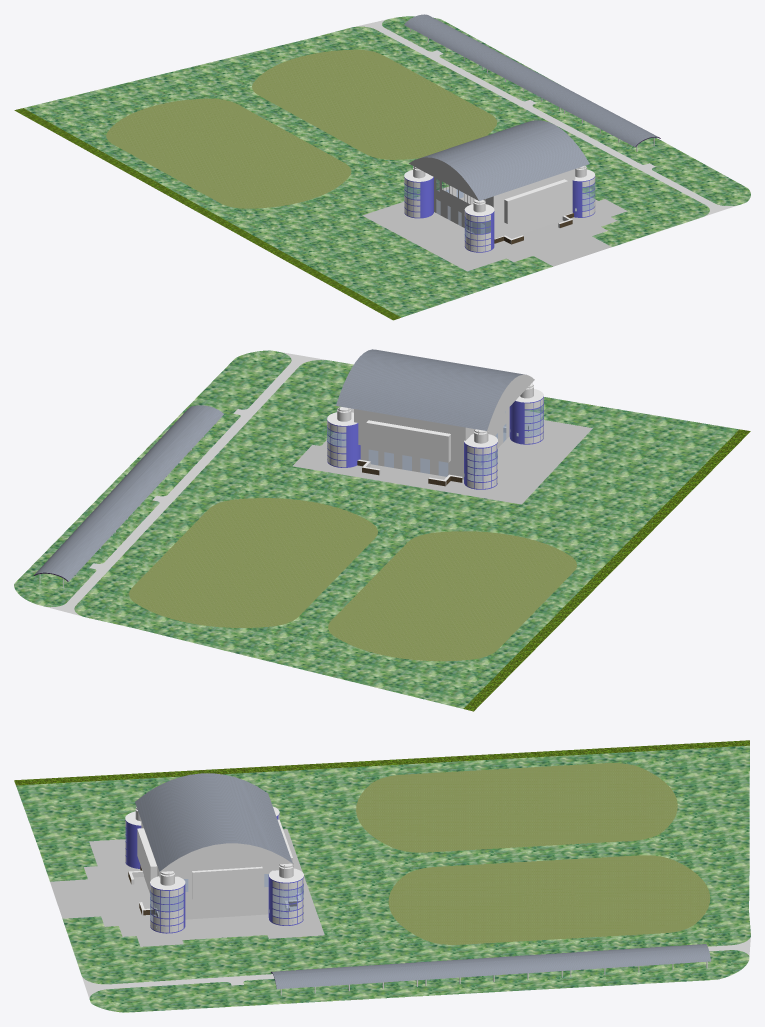
The model's file is NhaThiDauTDTT_AnLe.glb.
3 renders of one model, top to bottom at view 1: azimuth 30°, elevation 25°; view 2: azimuth 150°, elevation 25°; view 3: azimuth 270°, elevation 25°, orthographic. The views are drawn at different scales.
Parts seen in each view (by area): view 1: Material2 (×17); view 2: Material2 (×18); view 3: Material2 (×18).
Part boxes in pixels (left/top/right/bottom): Material2 (×17): left=14, top=14, right=750, bottom=320; Material2 (×18): left=14, top=349, right=750, bottom=711; Material2 (×18): left=14, top=740, right=750, bottom=1012.
Size of the model in its own units: 8597 by 1206 by 9828.
Materials: 19 (6 with a texture image).
